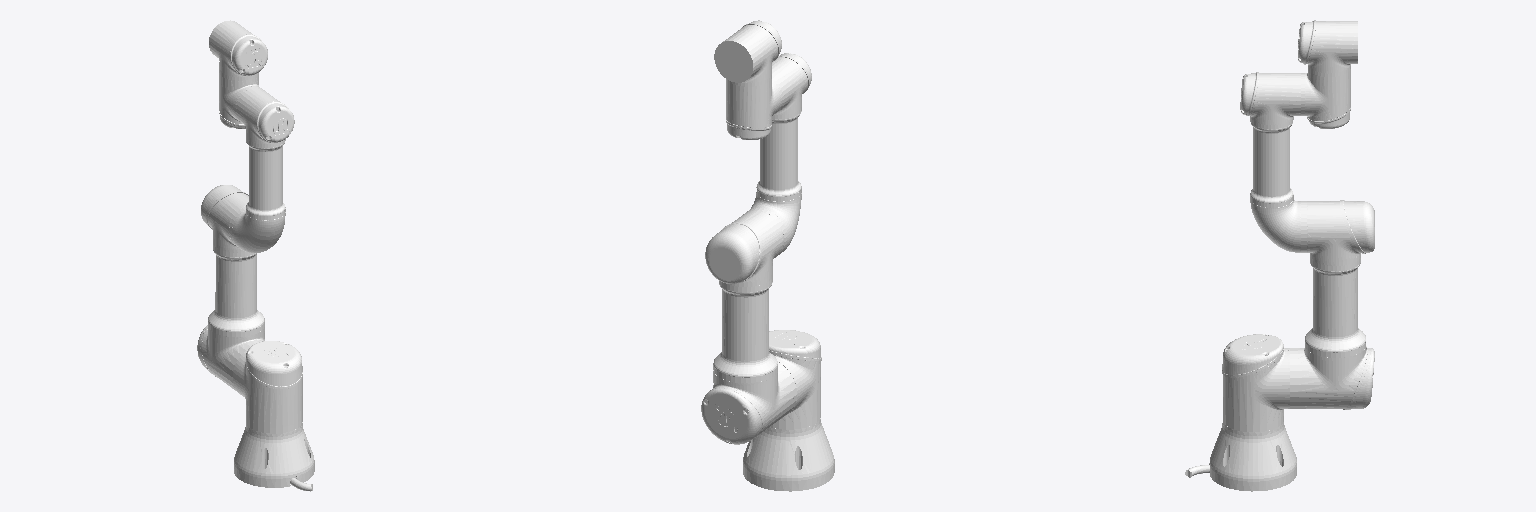
The robot description file, URDF, robot "ur3":
<robot name="ur3">
    <link name="world" />
    <joint name="fix_joint" type="fixed">
        <parent link="world" />
        <child link="base_link" />
    </joint>
    <link name="base_link">

<inertial>
            <origin xyz="3.9271E-05 0.04622 0.00080839" rpy="0 0 0" />
            <mass value="0.61579" />
            <inertia ixx="0.00079865" ixy="9.7917E-07" ixz="-1.4612E-06" iyy="0.001032" iyz="1.9027E-05" izz="0.00078297" />
        </inertial>

        <visual>
            <origin xyz="0 0 0" rpy="0 0 0" />
            <geometry>
                <mesh filename="package://ur3/meshes/base_link.STL" />
            </geometry>
            <material name="">
                <color rgba="1 1 1 1" />
            </material>
        </visual>
        <collision>
            <origin xyz="0 0 0" rpy="0 0 0" />
            <geometry>
                <mesh filename="package://ur3/meshes/base_link.STL" />
            </geometry>
        </collision>
    </link>
    <link name="link1">

<inertial>
            <origin xyz="-1.0714E-05 0.055942 0.0073314" rpy="0 0 0" />
            <mass value="0.75586" />
            <inertia ixx="0.0012076" ixy="1.5182E-07" ixz="1.1041E-07" iyy="0.00091335" iyz="-0.00010158" izz="0.0011222" />
        </inertial>

        <visual>
            <origin xyz="0 0 0" rpy="0 0 0" />
            <geometry>
                <mesh filename="package://ur3/meshes/link1.STL" />
            </geometry>
            <material name="">
                <color rgba="1 1 1 1" />
            </material>
        </visual>
        <collision>
            <origin xyz="0 0 0" rpy="0 0 0" />
            <geometry>
                <mesh filename="package://ur3/meshes/link1.STL" />
            </geometry>
        </collision>
    </link>
    <joint name="joint1" type="revolute">
        <origin xyz="0 0 0.0844" rpy="1.5708 5.6655E-16 -3.1416" />
        <parent link="base_link" />
        <child link="link1" />
        <axis xyz="0 1 0" />
        <limit lower="-3.14" upper="3.14" effort="100" velocity="1" />
    </joint>
    <link name="link2">

<inertial>
            <origin xyz="-4.188E-06 0.064249 0.1057" rpy="0 0 0" />
            <mass value="1.8019" />
            <inertia ixx="0.01936" ixy="8.8945E-08" ixz="-7.4473E-07" iyy="0.018785" iyz="-0.0013523" izz="0.0021134" />
        </inertial>

        <visual>
            <origin xyz="0 0 0" rpy="0 0 0" />
            <geometry>
                <mesh filename="package://ur3/meshes/link2.STL" />
            </geometry>
            <material name="">
                <color rgba="1 1 1 1" />
            </material>
        </visual>
        <collision>
            <origin xyz="0 0 0" rpy="0 0 0" />
            <geometry>
                <mesh filename="package://ur3/meshes/link2.STL" />
            </geometry>
        </collision>
    </link>
    <joint name="joint2" type="revolute">
        <origin xyz="0 0.0675 0.05235" rpy="1.5708 0 -3.1416" />
        <parent link="link1" />
        <child link="link2" />
        <axis xyz="0 -1 0" />
        <limit lower="-3.14" upper="3.14" effort="100" velocity="1" />
    </joint>
    <link name="link3">

<inertial>
            <origin xyz="-0.0051445 -0.1112 7.0153E-08" rpy="0 0 0" />
            <mass value="0.96225" />
            <inertia ixx="0.0071078" ixy="0.00058643" ixz="8.7729E-10" iyy="0.00067153" iyz="5.7985E-09" izz="0.0072945" />
        </inertial>

        <visual>
            <origin xyz="0 0 0" rpy="0 0 0" />
            <geometry>
                <mesh filename="package://ur3/meshes/link3.STL" />
            </geometry>
            <material name="">
                <color rgba="1 1 1 1" />
            </material>
        </visual>
        <collision>
            <origin xyz="0 0 0" rpy="0 0 0" />
            <geometry>
                <mesh filename="package://ur3/meshes/link3.STL" />
            </geometry>
        </collision>
    </link>
    <joint name="joint3" type="revolute">
        <origin xyz="0 -0.02535 0.24365" rpy="-1.5708 7.4983E-33 -1.5708" />
        <parent link="link2" />
        <child link="link3" />
        <axis xyz="1 0 0" />
        <limit lower="-3.14" upper="3.14" effort="100" velocity="1" />
    </joint>
    <link name="link4">

<inertial>
            <origin xyz="0.0059213 -0.00051763 2.6076E-07" rpy="0 0 0" />
            <mass value="0.32523" />
            <inertia ixx="0.00026155" ixy="1.7566E-06" ixz="-1.985E-09" iyy="0.00020549" iyz="-4.0128E-10" izz="0.00029955" />
        </inertial>

        <visual>
            <origin xyz="0 0 0" rpy="0 0 0" />
            <geometry>
                <mesh filename="package://ur3/meshes/link4.STL" />
            </geometry>
            <material name="">
                <color rgba="1 1 1 1" />
            </material>
        </visual>
        <collision>
            <origin xyz="0 0 0" rpy="0 0 0" />
            <geometry>
                <mesh filename="package://ur3/meshes/link4.STL" />
            </geometry>
        </collision>
    </link>
    <joint name="joint4" type="revolute">
        <origin xyz="-0.0834 -0.213 0" rpy="-3.1416 -4.9304E-32 -7.4983E-33" />
        <parent link="link3" />
        <child link="link4" />
        <axis xyz="1 0 0" />
        <limit lower="-3.14" upper="3.14" effort="100" velocity="1" />
    </joint>
    <link name="link5">

<inertial>
            <origin xyz="0.0059213 0.00051762 -2.3715E-07" rpy="0 0 0" />
            <mass value="0.32523" />
            <inertia ixx="0.00026155" ixy="-1.7566E-06" ixz="1.9216E-09" iyy="0.00020549" iyz="-2.2402E-10" izz="0.00029955" />
        </inertial>

        <visual>
            <origin xyz="0 0 0" rpy="0 0 0" />
            <geometry>
                <mesh filename="package://ur3/meshes/link5.STL" />
            </geometry>
            <material name="">
                <color rgba="1 1 1 1" />
            </material>
        </visual>
        <collision>
            <origin xyz="0 0 0" rpy="0 0 0" />
            <geometry>
                <mesh filename="package://ur3/meshes/link5.STL" />
            </geometry>
        </collision>
    </link>
    <joint name="joint5" type="revolute">
        <origin xyz="0 0.0834 0" rpy="0 -3.8286E-16 -1.5708" />
        <parent link="link4" />
        <child link="link5" />
        <axis xyz="-1 0 0" />
        <limit lower="-3.14" upper="3.14" effort="100" velocity="1" />
    </joint>
    <link name="link6">

<inertial>
            <origin xyz="-3.468E-11 0.00010331 -0.021073" rpy="0 0 0" />
            <mass value="0.11536" />
            <inertia ixx="4.3204E-05" ixy="5.7806E-13" ixz="-1.2E-12" iyy="4.3416E-05" iyz="1.0813E-07" izz="5.9067E-05" />
        </inertial>

        <visual>
            <origin xyz="0 0 0" rpy="0 0 0" />
            <geometry>
                <mesh filename="package://ur3/meshes/link6.STL" />
            </geometry>
            <material name="">
                <color rgba="1 1 1 1" />
            </material>
        </visual>
        <collision>
            <origin xyz="0 0 0" rpy="0 0 0" />
            <geometry>
                <mesh filename="package://ur3/meshes/link6.STL" />
            </geometry>
        </collision>
    </link>
    <joint name="joint6" type="continuous">
        <origin xyz="0 -0.0409 0" rpy="1.5708 -1.5708 0" />
        <parent link="link5" />
        <child link="link6" />
        <axis xyz="0 0 1" />
        <limit effort="100" velocity="1" />
    </joint>

<transmission name="trans_joint1">
        <type>transmission_interface/SimpleTransmission</type>
        <joint name="joint1">
            <hardwareInterface>hardware_interface/PositionJointInterface</hardwareInterface>
        </joint>
        <actuator name="joint1_motor">
            <hardwareInterface>hardware_interface/PositionJointInterface</hardwareInterface>
            <mechanicalReduction>1</mechanicalReduction>
        </actuator>
    </transmission>
    <transmission name="trans_joint2">
        <type>transmission_interface/SimpleTransmission</type>
        <joint name="joint2">
            <hardwareInterface>hardware_interface/PositionJointInterface</hardwareInterface>
        </joint>
        <actuator name="joint2_motor">
            <hardwareInterface>hardware_interface/PositionJointInterface</hardwareInterface>
            <mechanicalReduction>1</mechanicalReduction>
        </actuator>
    </transmission>
    <transmission name="trans_joint3">
        <type>transmission_interface/SimpleTransmission</type>
        <joint name="joint3">
            <hardwareInterface>hardware_interface/PositionJointInterface</hardwareInterface>
        </joint>
        <actuator name="joint3_motor">
            <hardwareInterface>hardware_interface/PositionJointInterface</hardwareInterface>
            <mechanicalReduction>1</mechanicalReduction>
        </actuator>
    </transmission>
    <transmission name="trans_joint4">
        <type>transmission_interface/SimpleTransmission</type>
        <joint name="joint4">
            <hardwareInterface>hardware_interface/PositionJointInterface</hardwareInterface>
        </joint>
        <actuator name="joint4_motor">
            <hardwareInterface>hardware_interface/PositionJointInterface</hardwareInterface>
            <mechanicalReduction>1</mechanicalReduction>
        </actuator>
    </transmission>
    <transmission name="trans_joint5">
        <type>transmission_interface/SimpleTransmission</type>
        <joint name="joint5">
            <hardwareInterface>hardware_interface/PositionJointInterface</hardwareInterface>
        </joint>
        <actuator name="joint5_motor">
            <hardwareInterface>hardware_interface/PositionJointInterface</hardwareInterface>
            <mechanicalReduction>1</mechanicalReduction>
        </actuator>
    </transmission>
    <transmission name="trans_joint6">
        <type>transmission_interface/SimpleTransmission</type>
        <joint name="joint6">
            <hardwareInterface>hardware_interface/PositionJointInterface</hardwareInterface>
        </joint>
        <actuator name="joint6_motor">
            <hardwareInterface>hardware_interface/PositionJointInterface</hardwareInterface>
            <mechanicalReduction>1</mechanicalReduction>
        </actuator>
    </transmission>
    <gazebo>
        <plugin name="gazebo_ros_control" filename="libgazebo_ros_control.so">
            <robotNamespace>/</robotNamespace>
        </plugin>
    </gazebo>
    <transmission name="trans_joint1">
        <type>transmission_interface/SimpleTransmission</type>
        <joint name="joint1">
            <hardwareInterface>hardware_interface/PositionJointInterface</hardwareInterface>
        </joint>
        <actuator name="joint1_motor">
            <hardwareInterface>hardware_interface/PositionJointInterface</hardwareInterface>
            <mechanicalReduction>1</mechanicalReduction>
        </actuator>
    </transmission>
    <transmission name="trans_joint2">
        <type>transmission_interface/SimpleTransmission</type>
        <joint name="joint2">
            <hardwareInterface>hardware_interface/PositionJointInterface</hardwareInterface>
        </joint>
        <actuator name="joint2_motor">
            <hardwareInterface>hardware_interface/PositionJointInterface</hardwareInterface>
            <mechanicalReduction>1</mechanicalReduction>
        </actuator>
    </transmission>
    <transmission name="trans_joint3">
        <type>transmission_interface/SimpleTransmission</type>
        <joint name="joint3">
            <hardwareInterface>hardware_interface/PositionJointInterface</hardwareInterface>
        </joint>
        <actuator name="joint3_motor">
            <hardwareInterface>hardware_interface/PositionJointInterface</hardwareInterface>
            <mechanicalReduction>1</mechanicalReduction>
        </actuator>
    </transmission>
    <transmission name="trans_joint4">
        <type>transmission_interface/SimpleTransmission</type>
        <joint name="joint4">
            <hardwareInterface>hardware_interface/PositionJointInterface</hardwareInterface>
        </joint>
        <actuator name="joint4_motor">
            <hardwareInterface>hardware_interface/PositionJointInterface</hardwareInterface>
            <mechanicalReduction>1</mechanicalReduction>
        </actuator>
    </transmission>
    <transmission name="trans_joint5">
        <type>transmission_interface/SimpleTransmission</type>
        <joint name="joint5">
            <hardwareInterface>hardware_interface/PositionJointInterface</hardwareInterface>
        </joint>
        <actuator name="joint5_motor">
            <hardwareInterface>hardware_interface/PositionJointInterface</hardwareInterface>
            <mechanicalReduction>1</mechanicalReduction>
        </actuator>
    </transmission>
    <transmission name="trans_joint6">
        <type>transmission_interface/SimpleTransmission</type>
        <joint name="joint6">
            <hardwareInterface>hardware_interface/PositionJointInterface</hardwareInterface>
        </joint>
        <actuator name="joint6_motor">
            <hardwareInterface>hardware_interface/PositionJointInterface</hardwareInterface>
            <mechanicalReduction>1</mechanicalReduction>
        </actuator>
    </transmission>
    <gazebo>
        <plugin name="gazebo_ros_control" filename="libgazebo_ros_control.so">
            <robotNamespace>/</robotNamespace>
            <robotSimType>gazebo_ros_control/DefaultRobotHWSim</robotSimType>
            <legacyModeNS>true</legacyModeNS>
        </plugin>
    </gazebo>
</robot>

--- What the picture shows (computed from the rendered views, not written in the file) ---
Views: 3 orthographic renders of the robot side by side, from view 1: azimuth 30°, elevation 25°; view 2: azimuth 150°, elevation 25°; view 3: azimuth 270°, elevation 25°.
Model ur3 with 8 links and 7 joints (5 revolute, 1 continuous, 1 fixed), rooted at world, posed every joint at zero.
Links seen in each view (by area): view 1: link2, link3, link1, base_link, link5, link4; view 2: link2, link3, base_link, link1, link5, link4; view 3: link2, link3, link1, base_link, link5, link4.
Link boxes in pixels (box(x1,y1,x2,y2)): link2: box(197, 185, 264, 390); link3: box(229, 88, 294, 252); link1: box(233, 341, 302, 433); base_link: box(234, 422, 314, 491); link5: box(209, 20, 267, 80); link4: box(219, 73, 261, 128); link2: box(701, 210, 796, 444); link3: box(747, 53, 811, 254); base_link: box(743, 418, 834, 491); link1: box(769, 330, 821, 429); link5: box(714, 20, 781, 86); link4: box(726, 78, 782, 139); link2: box(1290, 200, 1374, 409); link3: box(1240, 72, 1306, 252); link1: box(1222, 334, 1289, 432); base_link: box(1185, 422, 1296, 491); link5: box(1298, 20, 1357, 76); link4: box(1301, 69, 1350, 128).
Bounding box of the posed robot: 0.128 × 0.2765 × 0.725 m (x, y, z).
Meshes: 7 distinct files referenced, 6 mesh visuals loaded (6 binary STL); not drawn: 1 (reference not matched to a file when rendering).